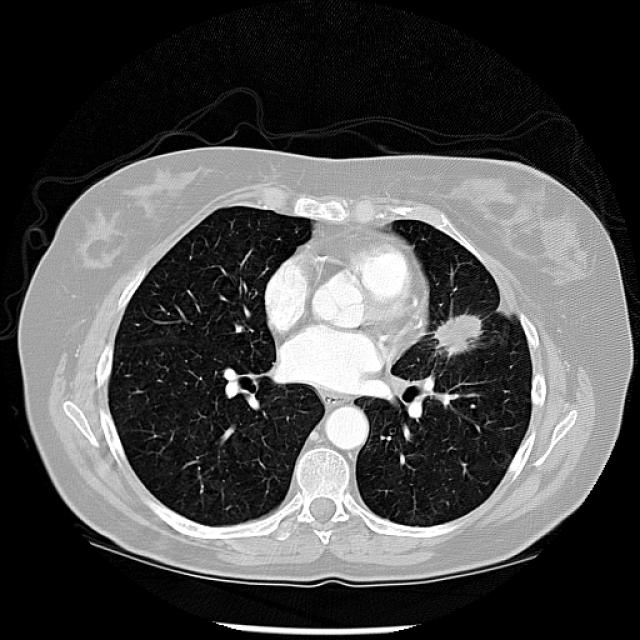nodule: (416, 289, 499, 371)
